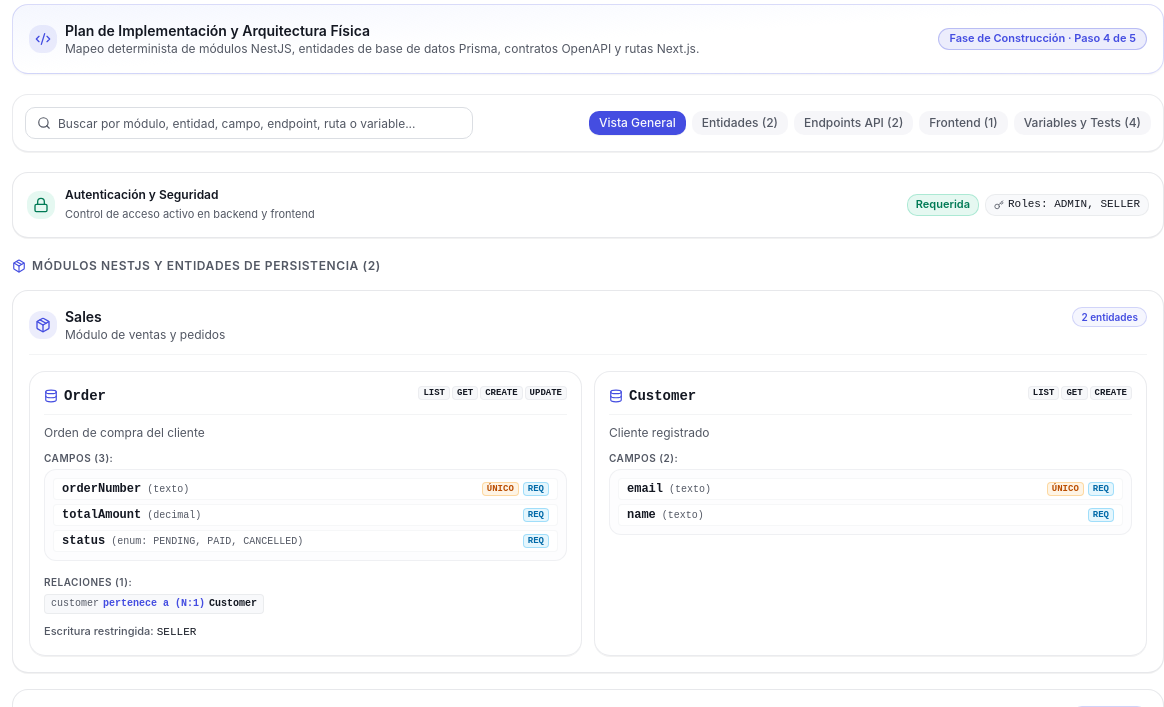
Test case: ImplementationPlanDetail › filters content in real-time via search input
Type "Inventory" into the search field named "Buscar en el plan de implementación" at (249, 123), box x1=25 y1=107 x2=473 y2=139
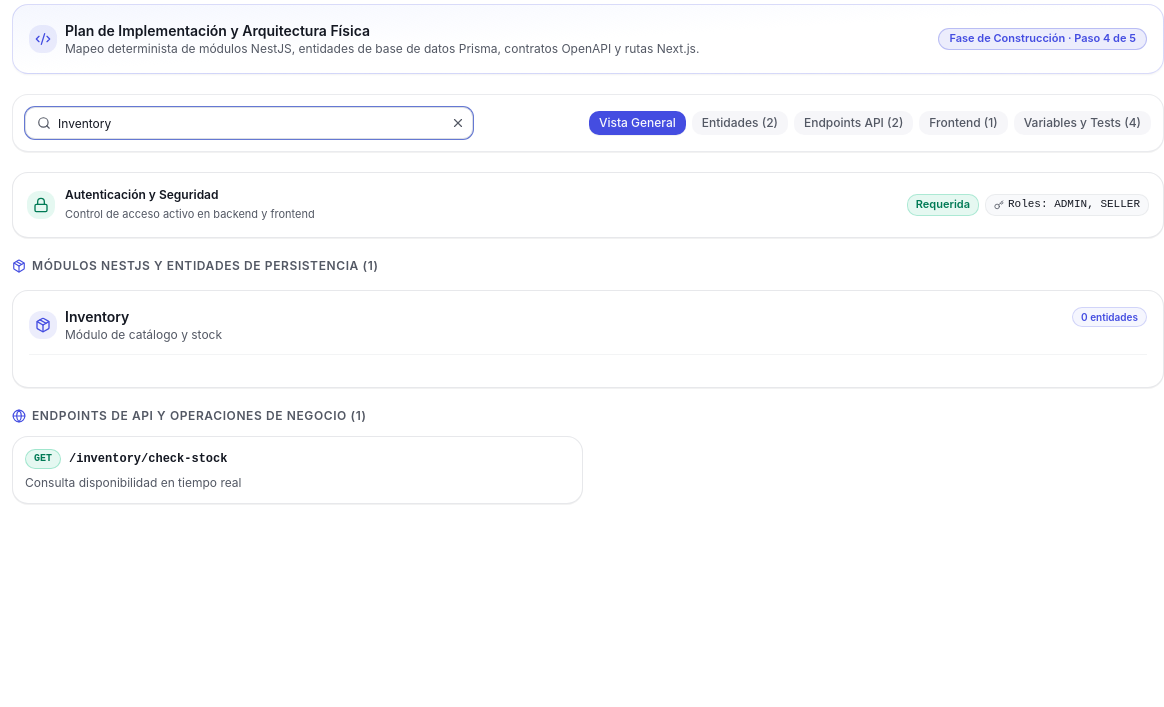
Expected: the heading "Inventory" is shown, x1=65 y1=308 x2=129 y2=325
Result: the heading "Sales" is gone
// Clear search
Click the button named "Limpiar búsqueda" at (458, 123), box x1=451 y1=116 x2=465 y2=130
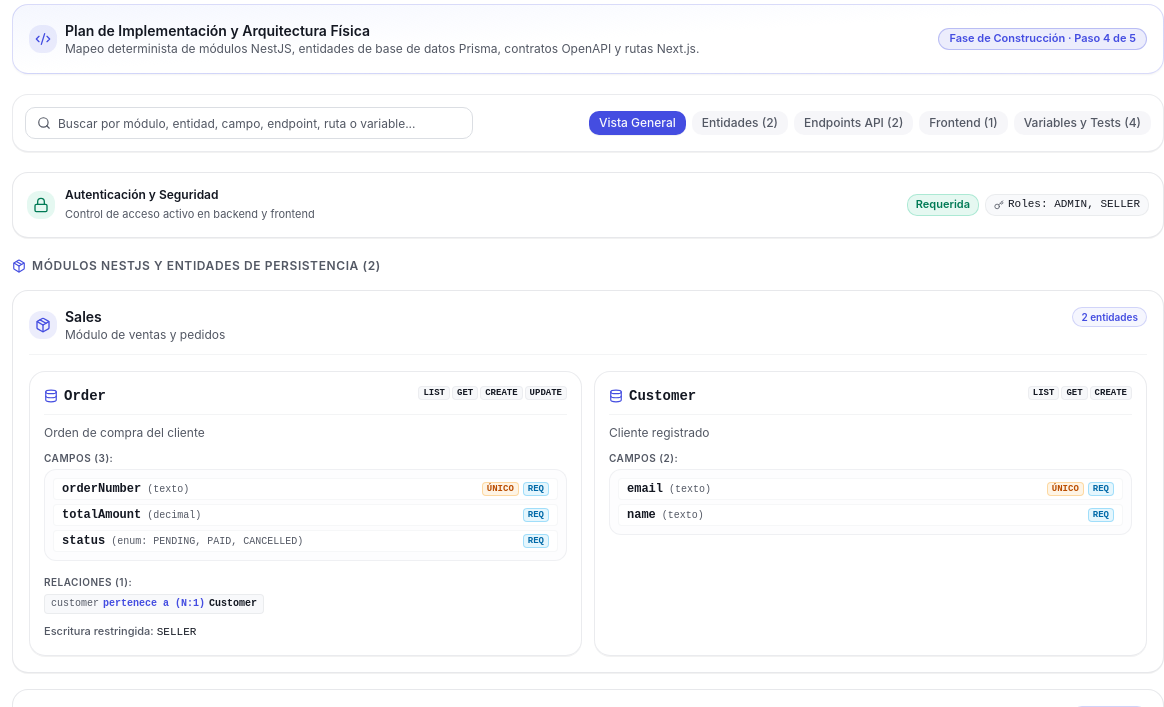
Result: the heading "Sales" is shown at x1=65 y1=308 x2=102 y2=325
